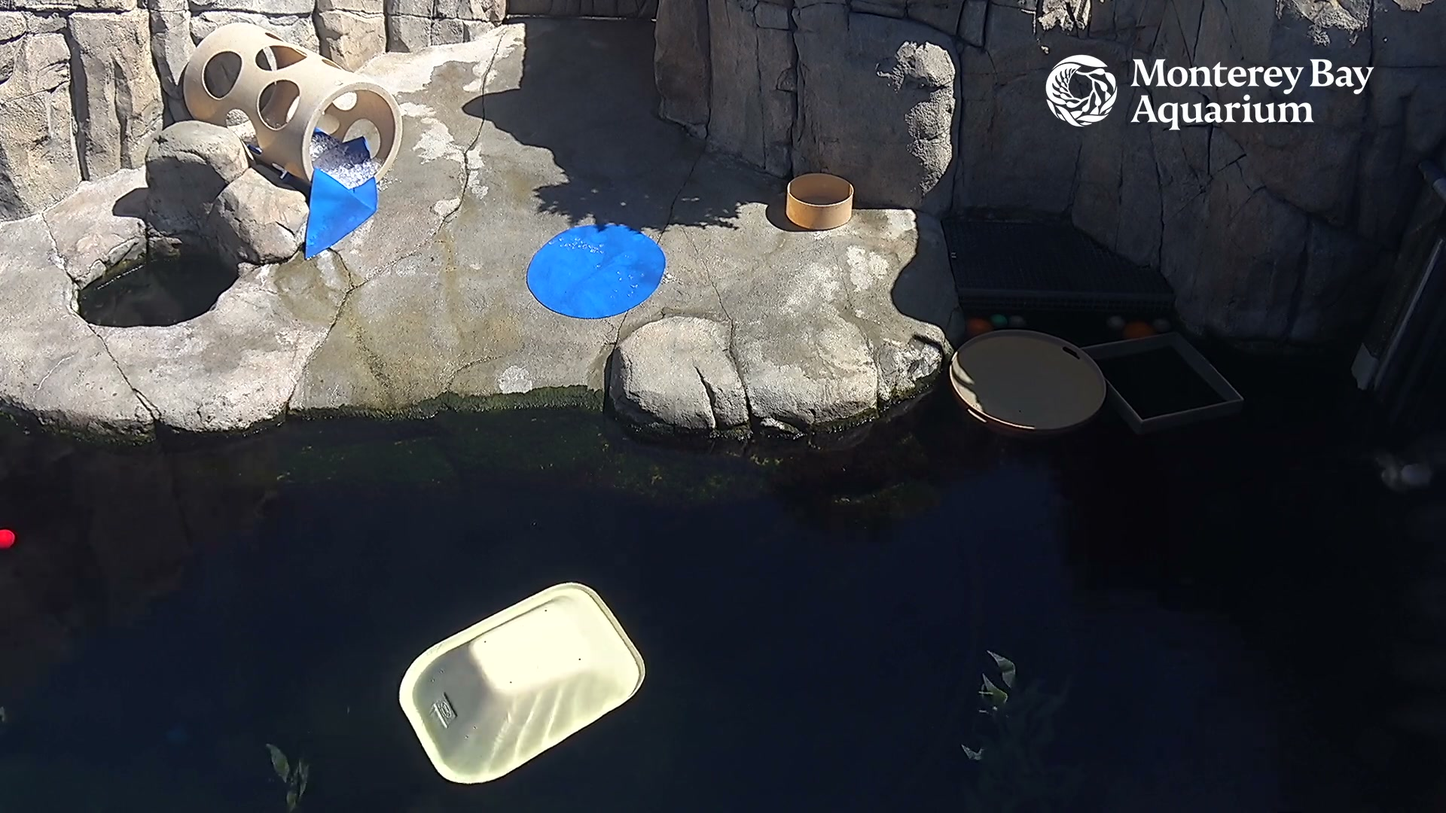Southern Sea Otter: (1347, 377, 1446, 565)
